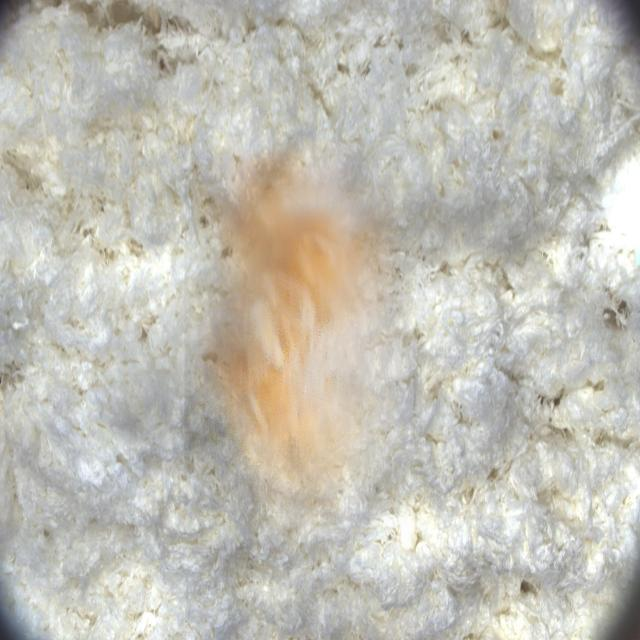dust: (184, 139, 414, 550)
